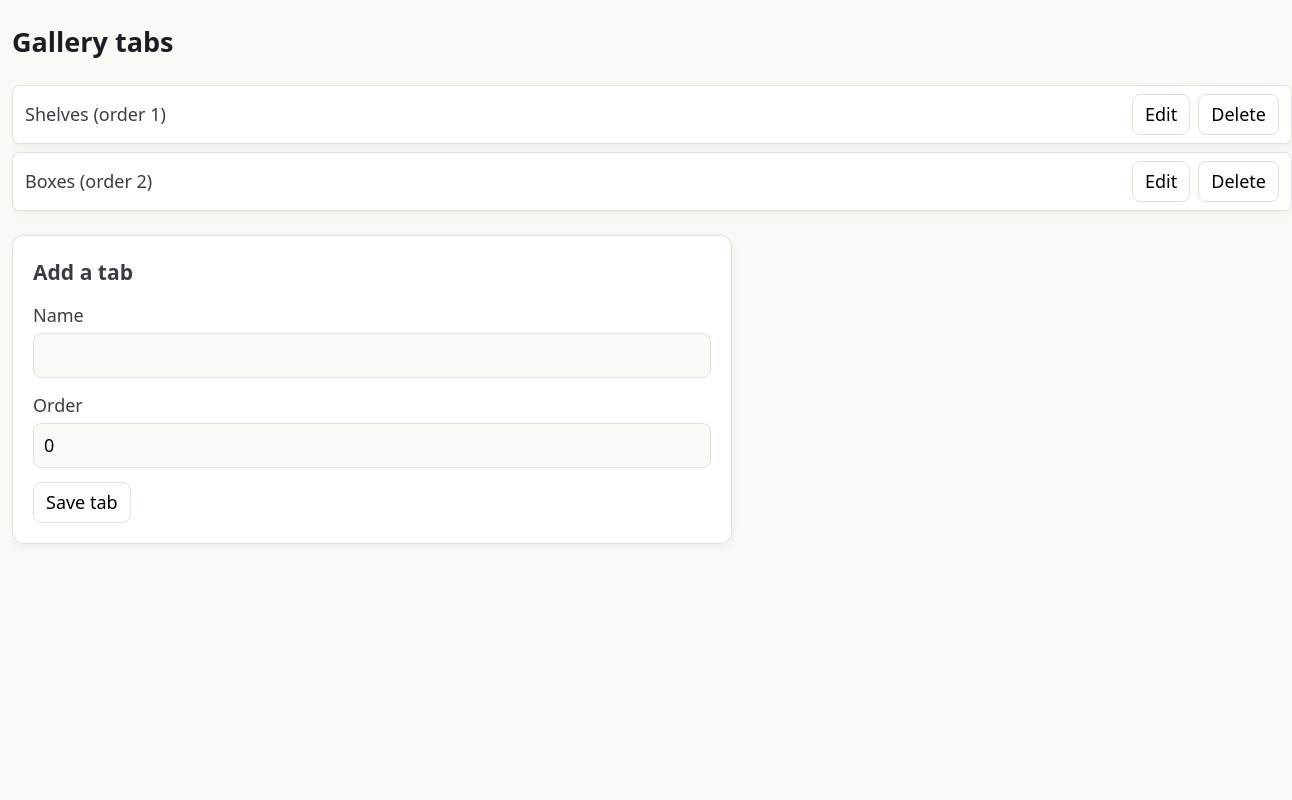
Scenario: TabsPanel › surfaces delete failures
Click the button "Delete" in the row of "Shelves": (1239, 115) [1198,94,1279,135]
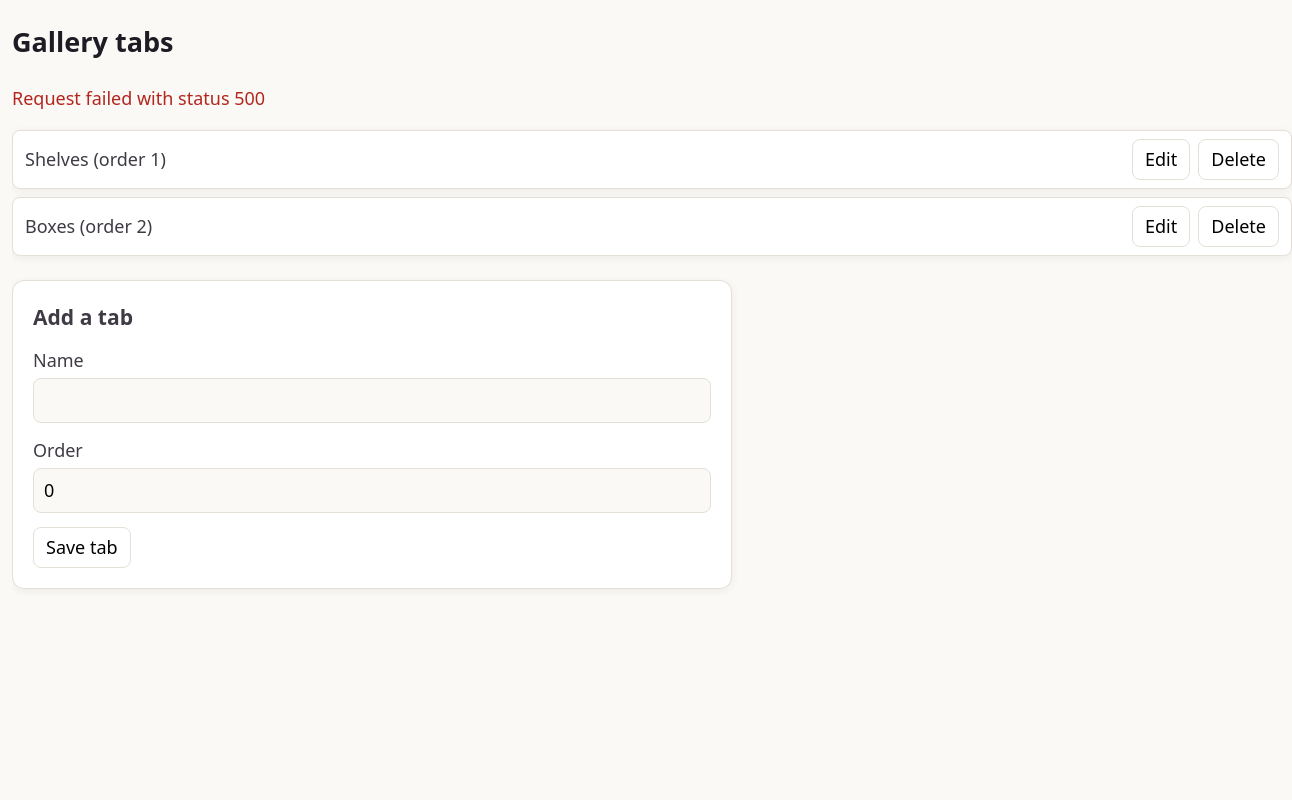
Result: the text "Request failed with status 500" is shown at [12,86,265,110]
